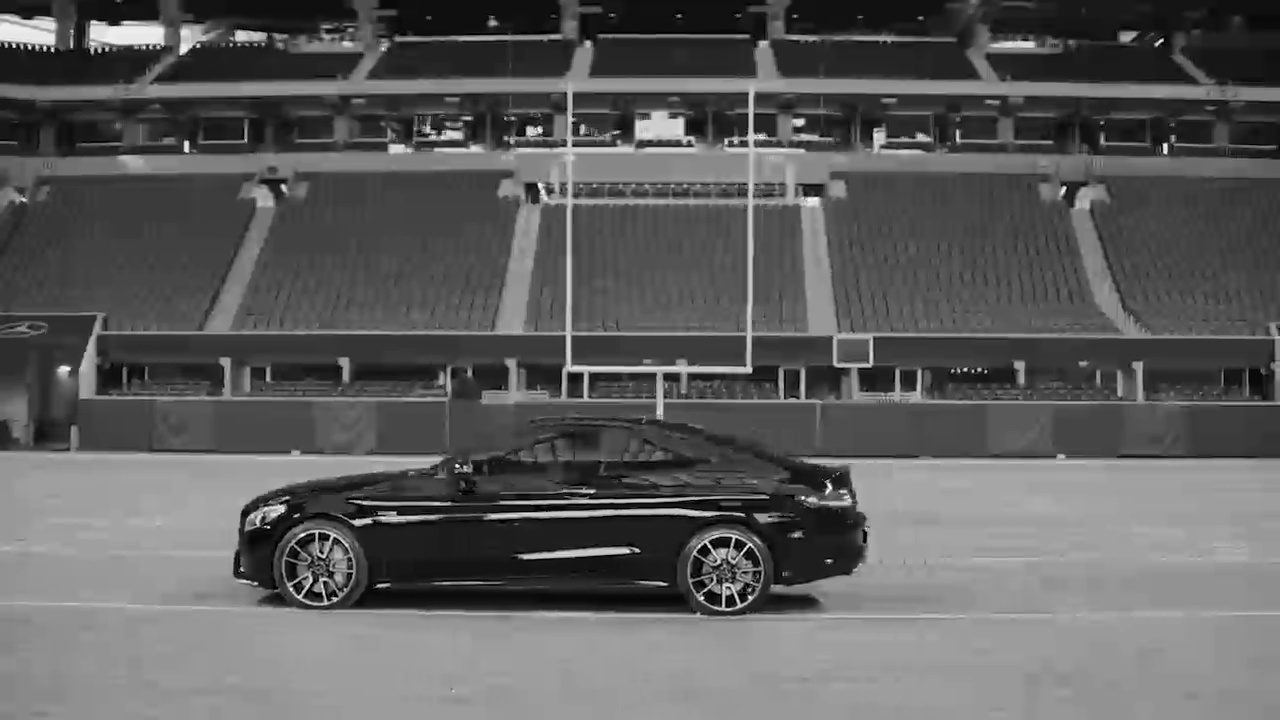car: (226, 417, 872, 620)
